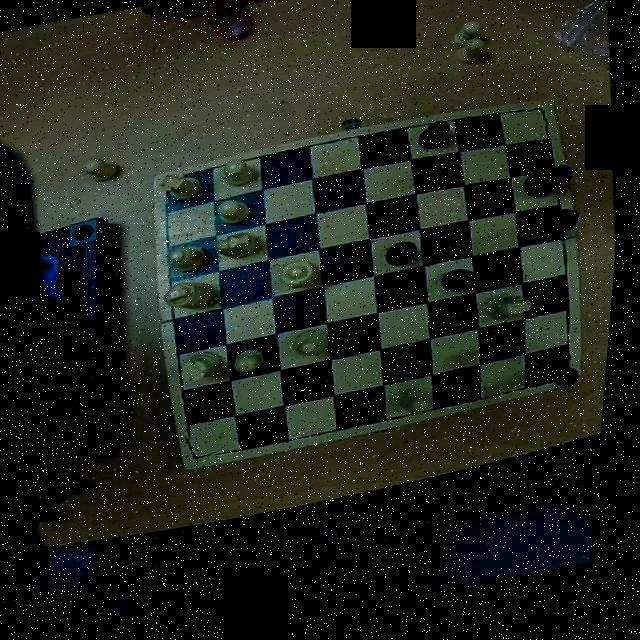chess-table-corners: (188, 432, 225, 470), (156, 172, 192, 208), (556, 363, 588, 396), (527, 110, 558, 138)
